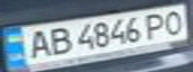4: (72, 20, 96, 52), (109, 16, 130, 46)
6: (124, 14, 148, 43)
8: (90, 19, 112, 48)
A: (21, 27, 54, 61)
B: (45, 25, 72, 56)
O: (160, 7, 190, 36)
P: (139, 10, 172, 40)
